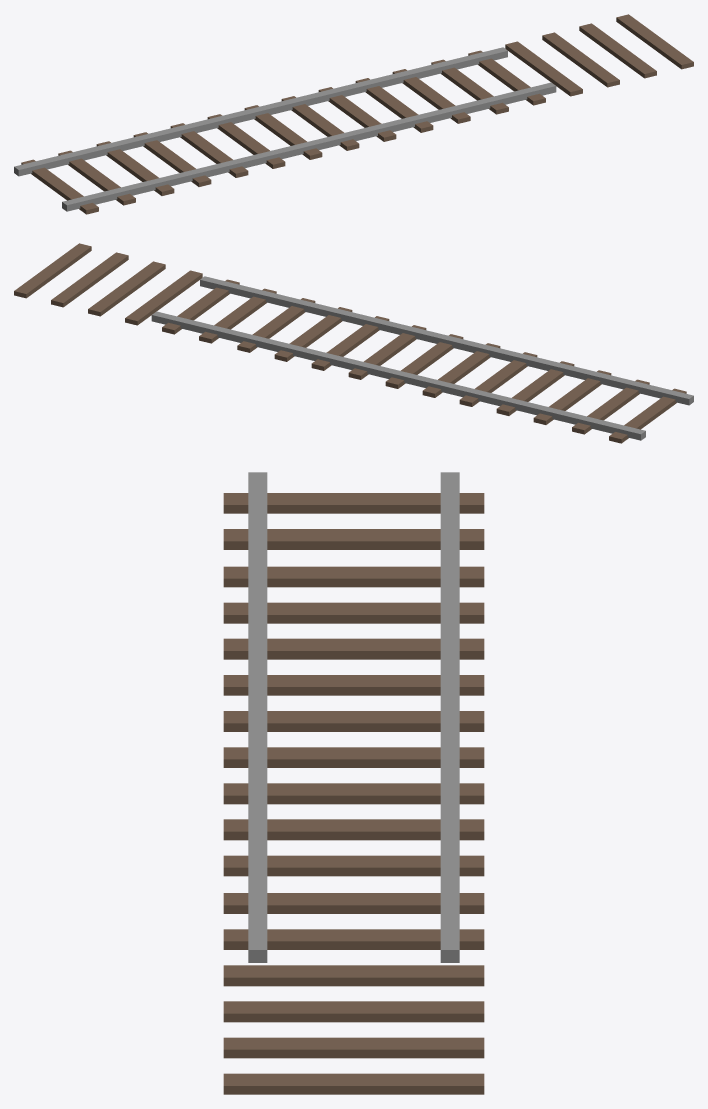
File: Rails_under_construction.fbx
The picture shows the model from 3 angles, top to bottom: view 1: azimuth 30°, elevation 25°; view 2: azimuth 150°, elevation 25°; view 3: azimuth 270°, elevation 25°; orthographic projection. The views are drawn at different scales.
Parts seen in each view (by area): view 1: Rails_under_construction; view 2: Rails_under_construction; view 3: Rails_under_construction.
Boxes of the visible parts, x1,y1,x2,y2 form: Rails_under_construction: (14, 14, 693, 214); Rails_under_construction: (14, 243, 693, 443); Rails_under_construction: (223, 472, 484, 1094).
Bounding box in the file's own units: 1677 × 305 × 20.84.
